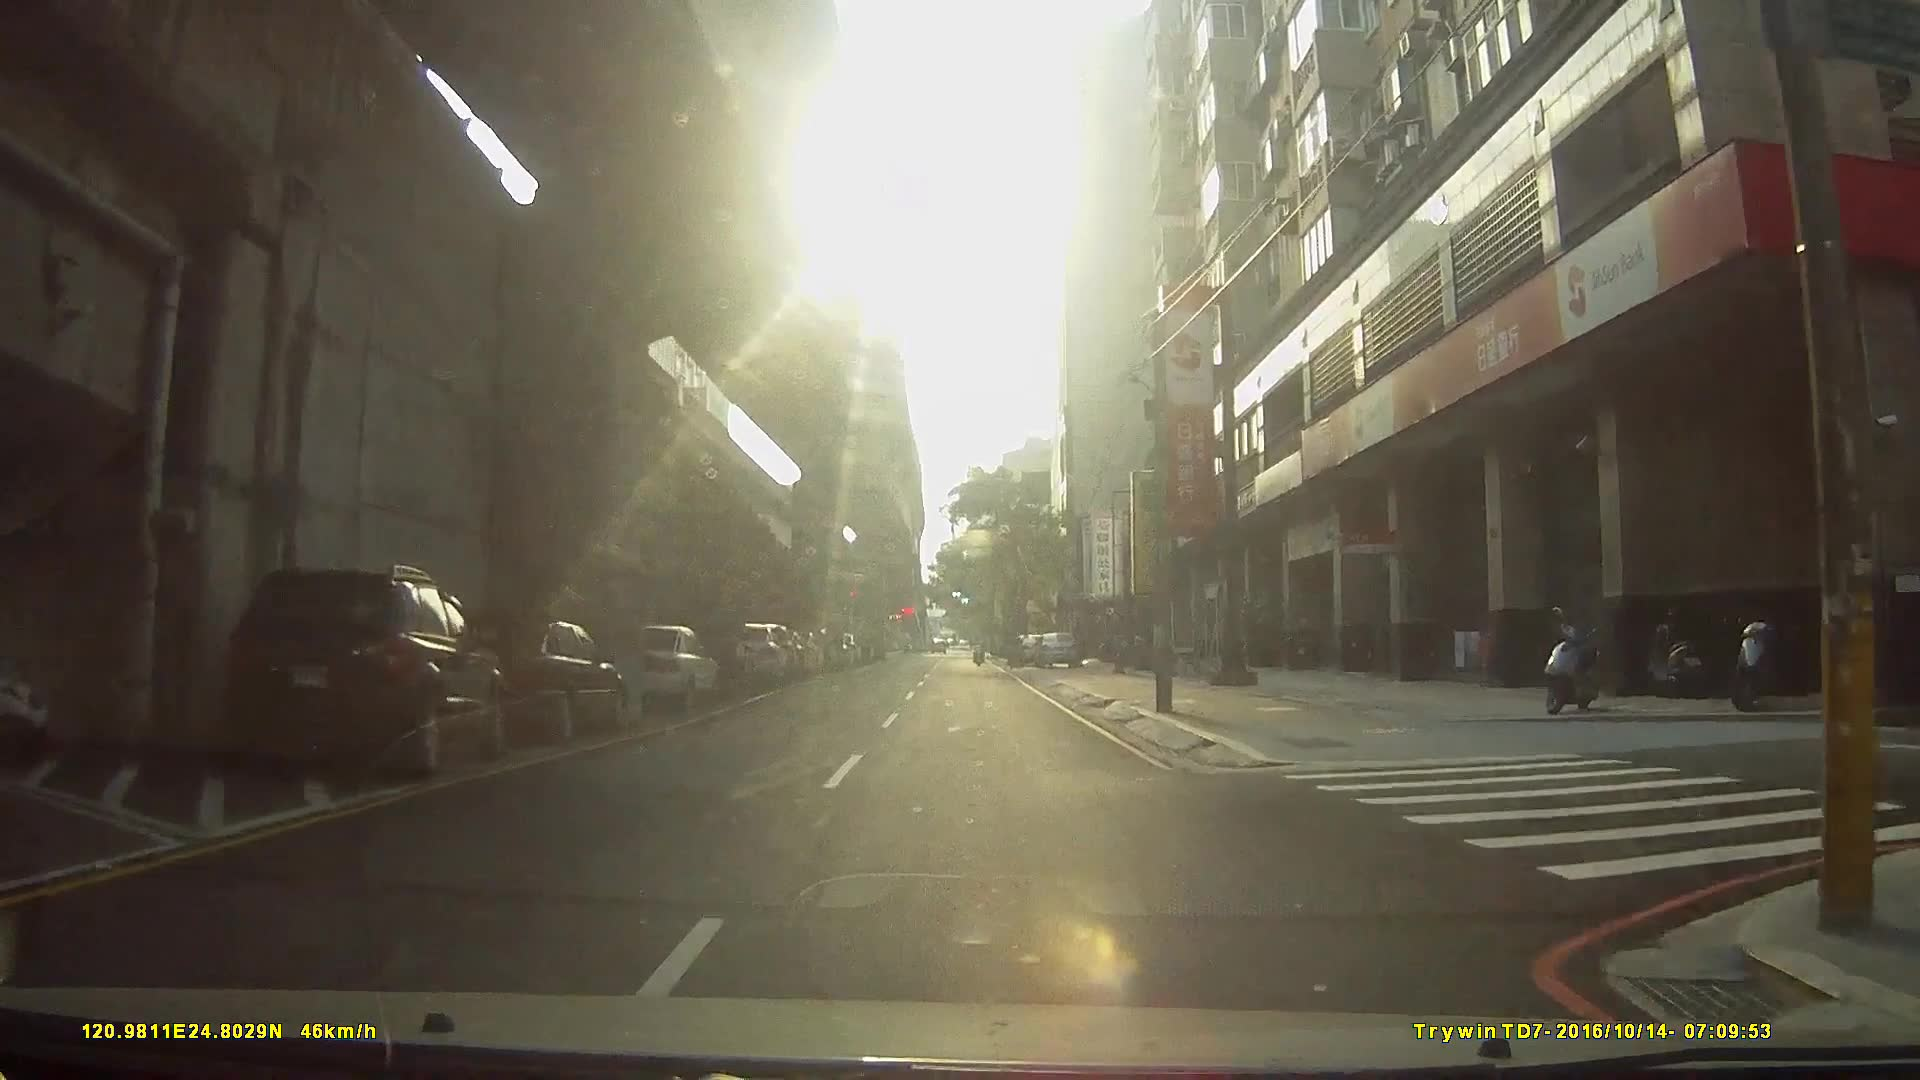vehicle: (220, 563, 508, 783), (440, 611, 632, 742), (615, 621, 723, 716), (659, 620, 794, 670), (1030, 626, 1083, 667)
